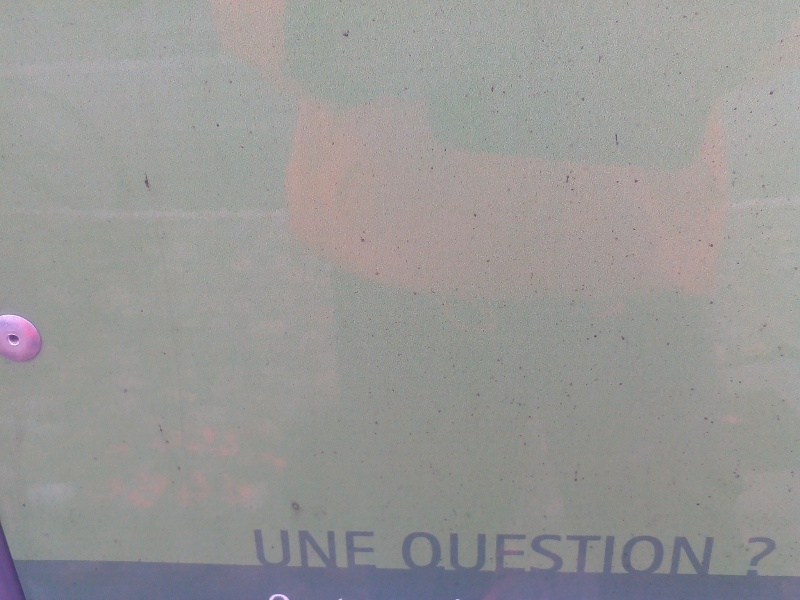text: (257, 527, 272, 574), (273, 527, 288, 574), (289, 527, 304, 574), (305, 527, 320, 574), (321, 527, 336, 574), (337, 527, 352, 574), (353, 527, 368, 574), (417, 531, 432, 578), (433, 531, 448, 578), (449, 531, 464, 578), (465, 531, 480, 578), (481, 531, 496, 578), (497, 531, 512, 578), (513, 531, 528, 578), (529, 531, 544, 578), (545, 531, 560, 578), (561, 531, 576, 578), (577, 531, 592, 578), (593, 531, 608, 578), (609, 531, 624, 578), (625, 531, 640, 578), (641, 531, 656, 578), (657, 531, 672, 578), (673, 531, 688, 578), (689, 531, 704, 578), (402, 531, 416, 578), (753, 536, 768, 579), (705, 531, 716, 578), (369, 527, 377, 574), (744, 536, 752, 579), (769, 536, 777, 579), (252, 527, 256, 574)
